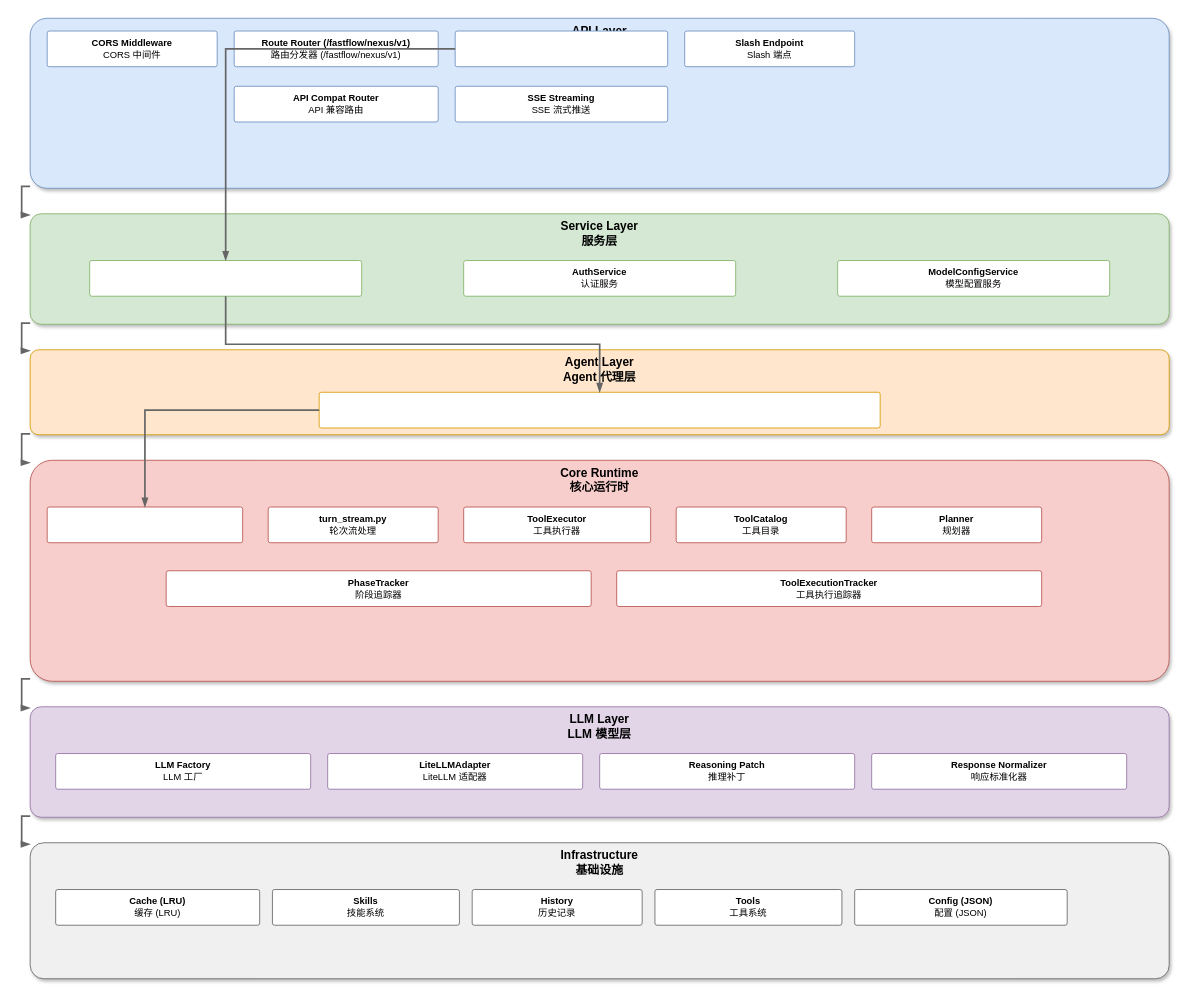
Some shapes in this 1189 by 1000 pixel diagram are drawn without their labels. The shapes that lost their labels are listed below. From the top down, each one's centre as x and y in pixels, then its label:
the point at 561,48: Agent Endpoint Agent 端点
the point at 225,278: AgentService Agent 服务
the point at 599,409: ChatAgent 对话代理
the point at 144,524: run_loop.py 运行循环
